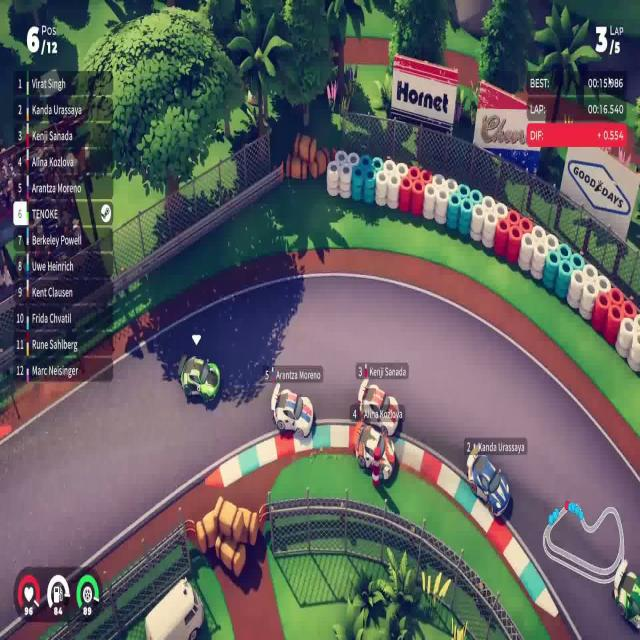car: (466, 450, 511, 521), (350, 376, 400, 436), (354, 422, 396, 486), (270, 381, 314, 438), (178, 353, 220, 405)
